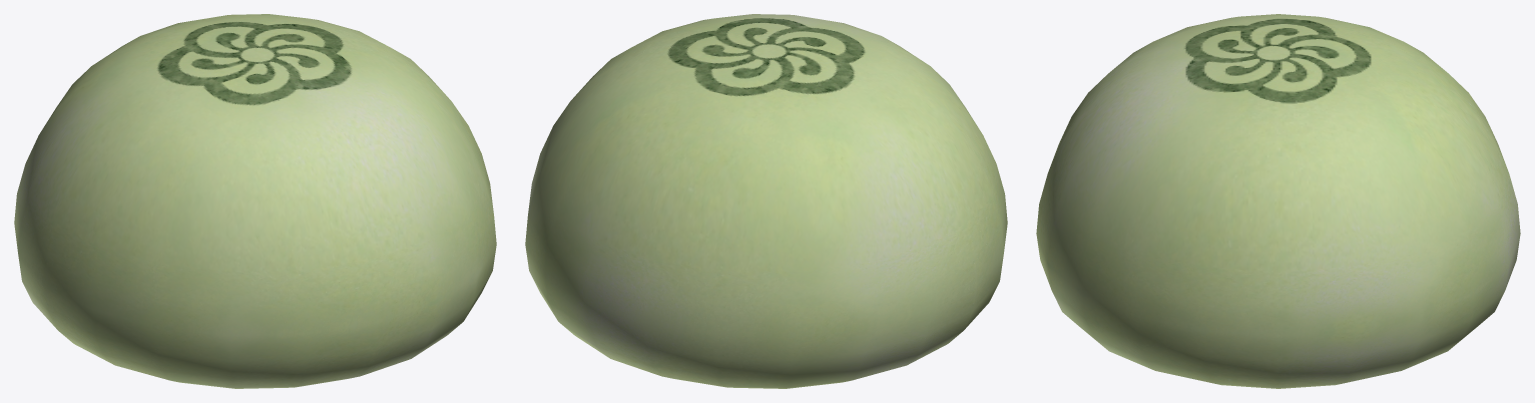
Rendered from bun_C.fbx.
3 views of the same model, side by side, from view 1: azimuth 30°, elevation 25°; view 2: azimuth 150°, elevation 25°; view 3: azimuth 270°, elevation 25° (orthographic).
Parts seen in each view (by area): view 1: pSphere5; view 2: pSphere5; view 3: pSphere5.
Boxes of the visible parts, left/top/right/bottom form: pSphere5: left=14, top=14, right=496, bottom=388; pSphere5: left=525, top=14, right=1007, bottom=388; pSphere5: left=1036, top=14, right=1520, bottom=388.
Bounding box in the file's own units: 4.03 × 2.47 × 4.03.
1 material, 1 textured.
